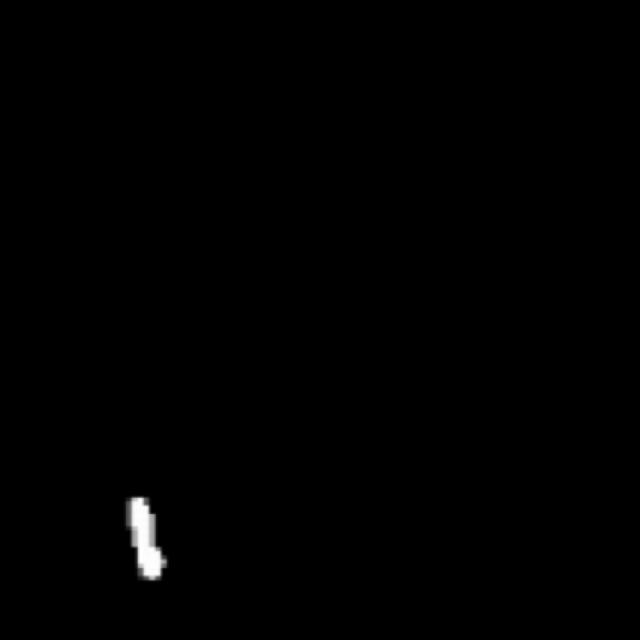one -1-: (99, 482, 198, 596)
